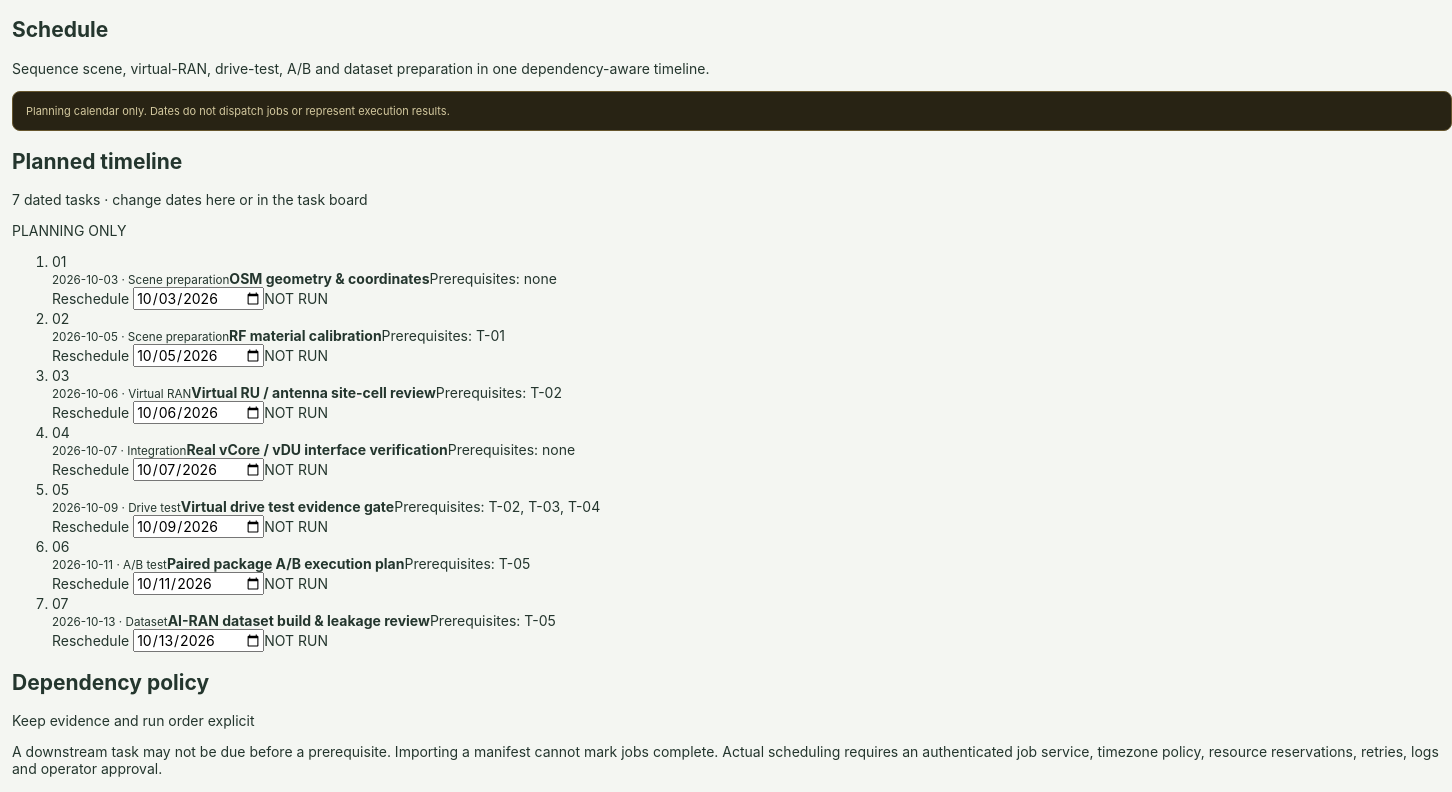
Test case: SchedulePreviewLeaf › shows planned dependencies and restores invalid dates without persisting them
expect the element named "Schedule preview route" shows "Planning calendar only": met, box x1=26 y1=104 x2=450 y2=118
Type "2000-01-01" into the date field named "Reschedule T-02".
click(199, 356); type("2000-01-01")  # box x1=133 y1=344 x2=264 y2=367
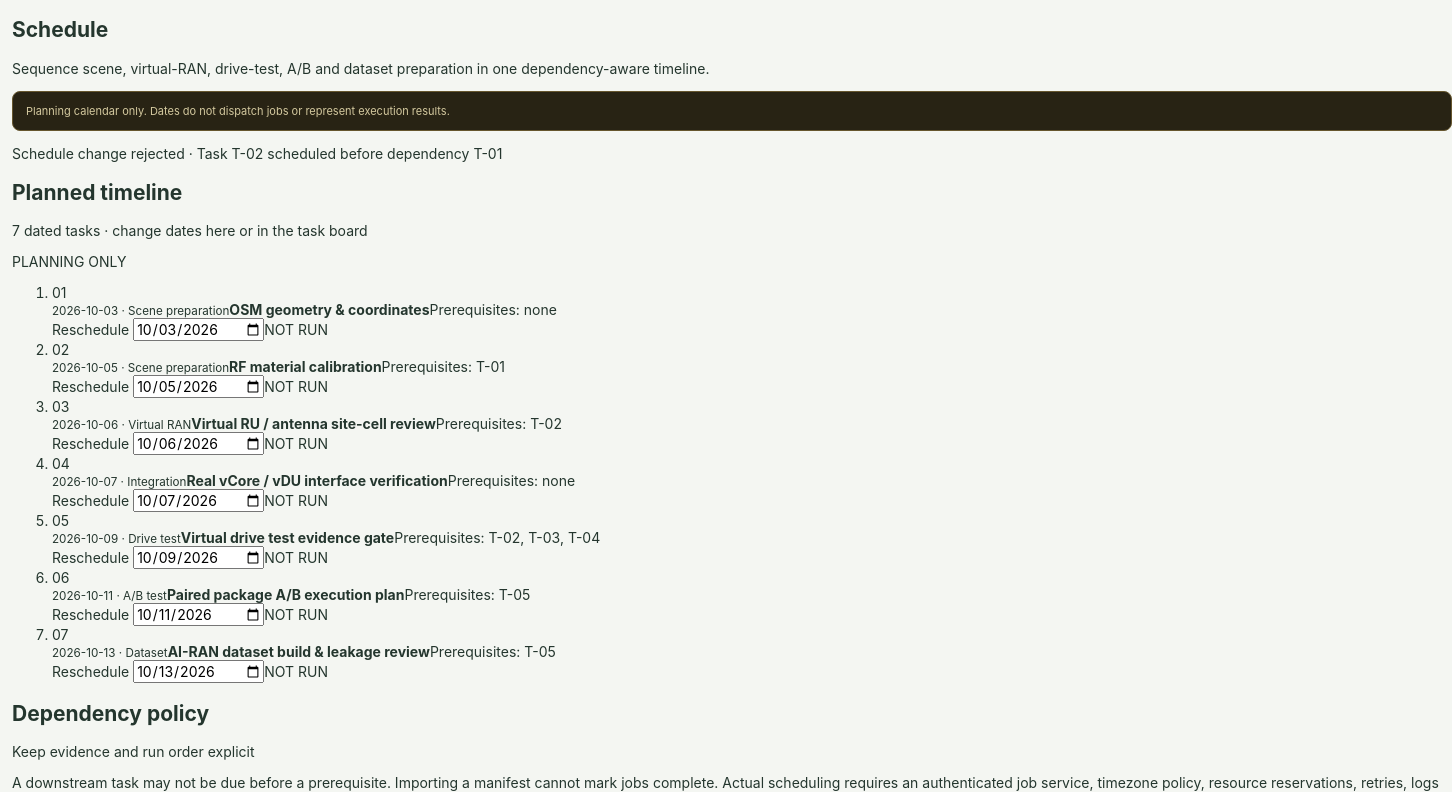
expect the date field named "Reschedule T-02" does not hold "2000-01-01": met, box x1=133 y1=375 x2=264 y2=398
expect the message shows "Task T-02 scheduled before dependency T-01": met, box x1=197 y1=145 x2=502 y2=162
